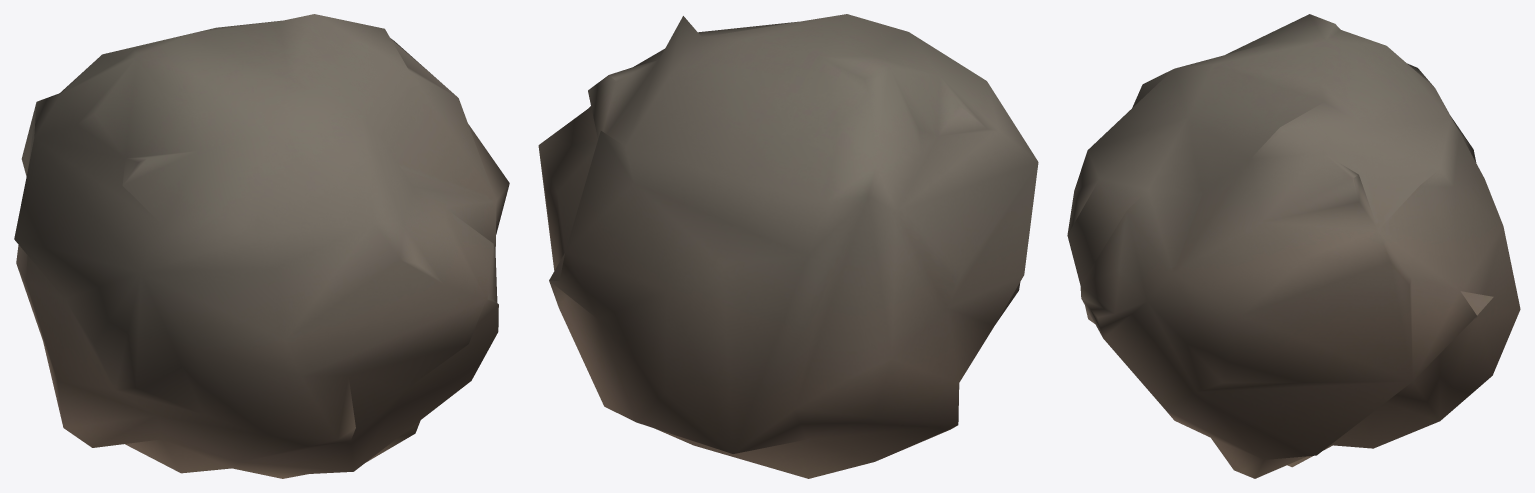
The model's file is rock_small.glb.
The picture shows the model from 3 angles, left to right: view 1: azimuth 30°, elevation 25°; view 2: azimuth 150°, elevation 25°; view 3: azimuth 270°, elevation 25°; orthographic projection. The views are drawn at different scales.
Parts seen in each view (by area): view 1: tripo_node_ef75f4a8-eeba-4df4-8ef7-1b46243dd194; view 2: tripo_node_ef75f4a8-eeba-4df4-8ef7-1b46243dd194; view 3: tripo_node_ef75f4a8-eeba-4df4-8ef7-1b46243dd194.
Boxes of the visible parts, x1=… form: tripo_node_ef75f4a8-eeba-4df4-8ef7-1b46243dd194: x1=14, y1=14, x2=509, y2=478; tripo_node_ef75f4a8-eeba-4df4-8ef7-1b46243dd194: x1=538, y1=14, x2=1038, y2=478; tripo_node_ef75f4a8-eeba-4df4-8ef7-1b46243dd194: x1=1067, y1=14, x2=1520, y2=478.
Bounding box in the file's own units: 1.16 × 1.16 × 1.2.
1 material, 1 textured.
